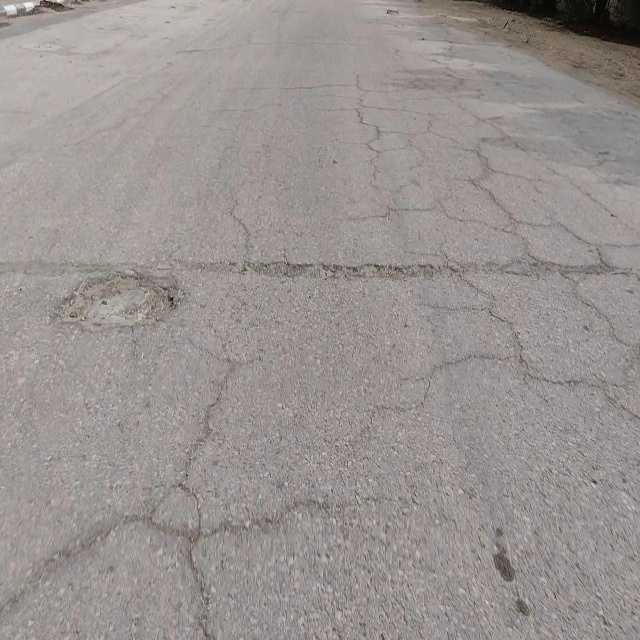pothole: (51, 270, 181, 333)
